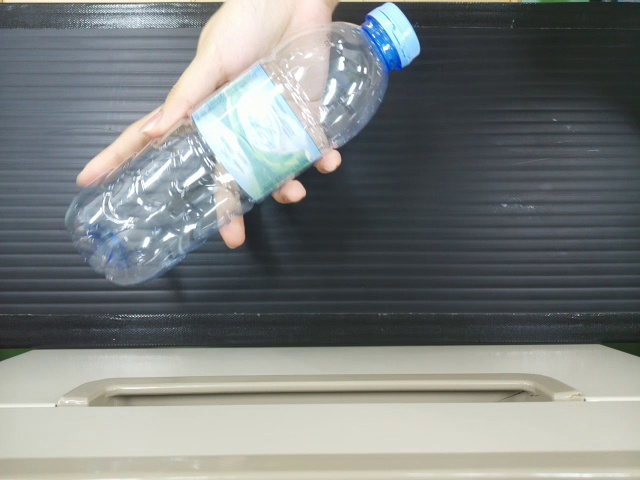bottle: (63, 11, 421, 286)
